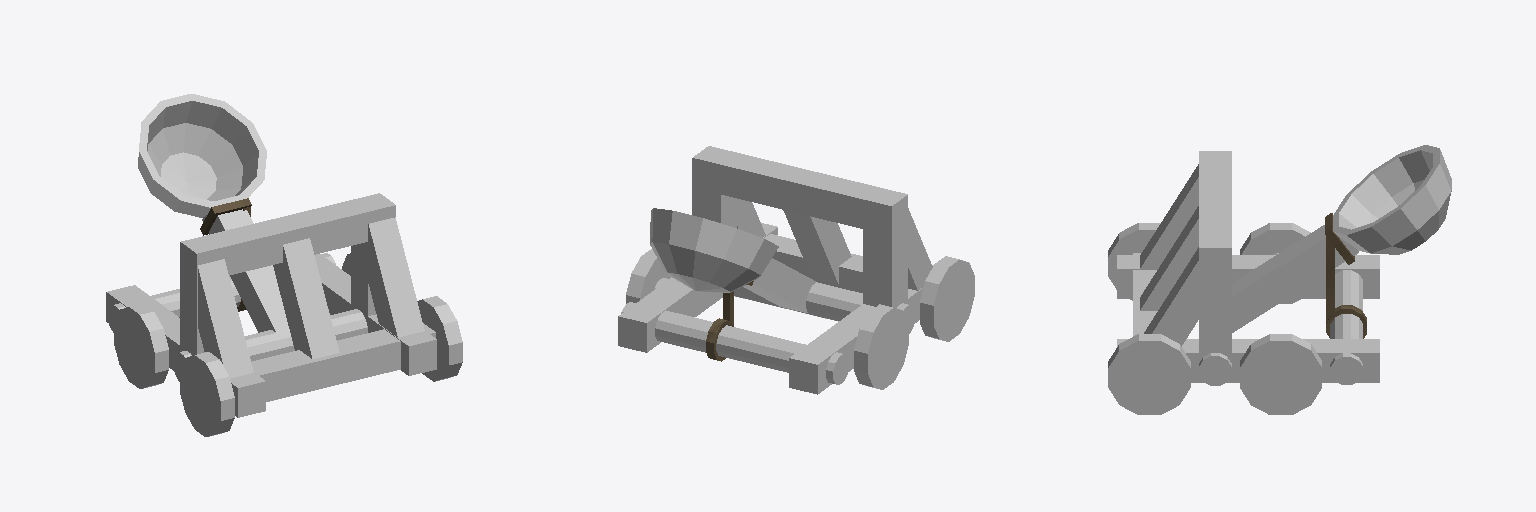
3 views of the same model, side by side, from view 1: azimuth 30°, elevation 25°; view 2: azimuth 150°, elevation 25°; view 3: azimuth 270°, elevation 25° (orthographic).
Visible parts, largest first — view 1: cuboid, cylinder, Cup; view 2: cuboid, cylinder, Cup; view 3: cuboid, cylinder, Cup.
Part boxes in pixels (left/top/right/bottom): cuboid: left=106, top=193, right=436, bottom=417; cylinder: left=107, top=253, right=462, bottom=436; Cup: left=138, top=94, right=266, bottom=217; cuboid: left=618, top=146, right=933, bottom=394; cylinder: left=621, top=249, right=974, bottom=389; Cup: left=650, top=208, right=778, bottom=292; cuboid: left=1117, top=151, right=1379, bottom=382; cylinder: left=1108, top=223, right=1366, bottom=414; Cup: left=1333, top=145, right=1451, bottom=254.
Size of the model in its own units: 1.06 by 0.8407 by 1.3.
Materials: 2 (1 with a texture image).